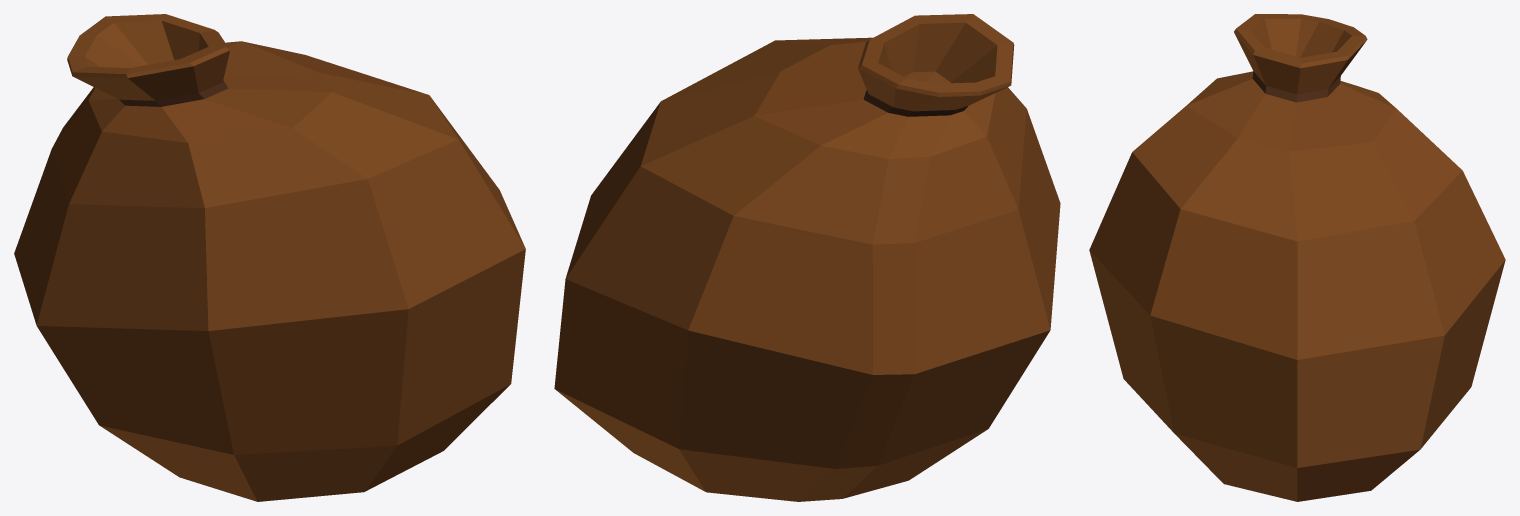
File: gunny bag2.fbx
The picture shows the model from 3 angles, left to right: view 1: azimuth 30°, elevation 25°; view 2: azimuth 150°, elevation 25°; view 3: azimuth 270°, elevation 25°; orthographic projection. The views are drawn at different scales.
Visible parts, largest first — view 1: gunny bag 2; view 2: gunny bag 2; view 3: gunny bag 2.
Boxes of the visible parts, left/top/right/bottom form: gunny bag 2: left=14, top=14, right=525, bottom=501; gunny bag 2: left=554, top=14, right=1060, bottom=501; gunny bag 2: left=1089, top=14, right=1505, bottom=501.
Size of the model in its own units: 204 by 184 by 190.
